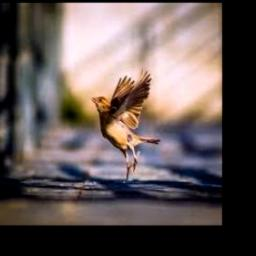Sparrow: (91, 68, 159, 183)
